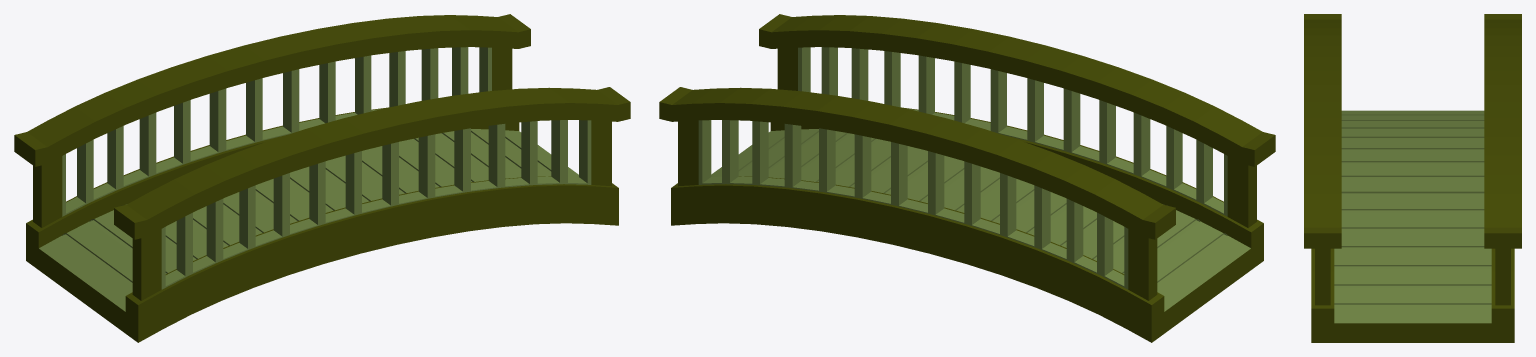
File: kopru.fbx
3 renders of one model, left to right at view 1: azimuth 30°, elevation 25°; view 2: azimuth 150°, elevation 25°; view 3: azimuth 270°, elevation 25°, orthographic. The views are drawn at different scales.
Visible parts, largest first — view 1: Cube.001; view 2: Cube.001; view 3: Cube.001.
Part boxes in pixels (left/top/right/bottom): Cube.001: left=14, top=14, right=630, bottom=342; Cube.001: left=659, top=14, right=1275, bottom=342; Cube.001: left=1304, top=14, right=1521, bottom=342.
Bounding box in the file's own units: 927 × 283 × 389.
